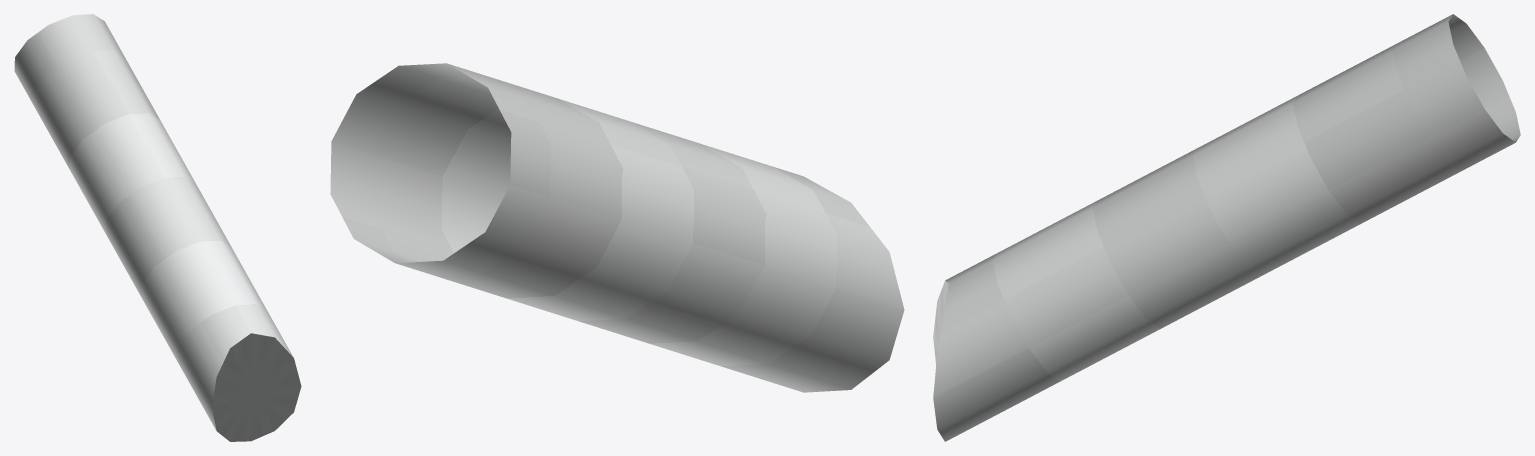
File: luminairearm_truss12ftstraightdouble_c1_pedestal.obj
3 views of the same model, side by side, from view 1: azimuth 30°, elevation 25°; view 2: azimuth 150°, elevation 25°; view 3: azimuth 270°, elevation 25° (orthographic). The views are drawn at different scales.
Parts seen in each view (by area): view 1: luminairearm_truss12ftstraightdouble_c1_pedestal; view 2: luminairearm_truss12ftstraightdouble_c1_pedestal; view 3: luminairearm_truss12ftstraightdouble_c1_pedestal.
Boxes of the visible parts, x1,y1,x2,y2 form: luminairearm_truss12ftstraightdouble_c1_pedestal: [14, 14, 301, 441]; luminairearm_truss12ftstraightdouble_c1_pedestal: [330, 63, 904, 392]; luminairearm_truss12ftstraightdouble_c1_pedestal: [933, 14, 1520, 441].
Bounding box in the file's own units: 0.1562 × 0.493 × 0.6354.
